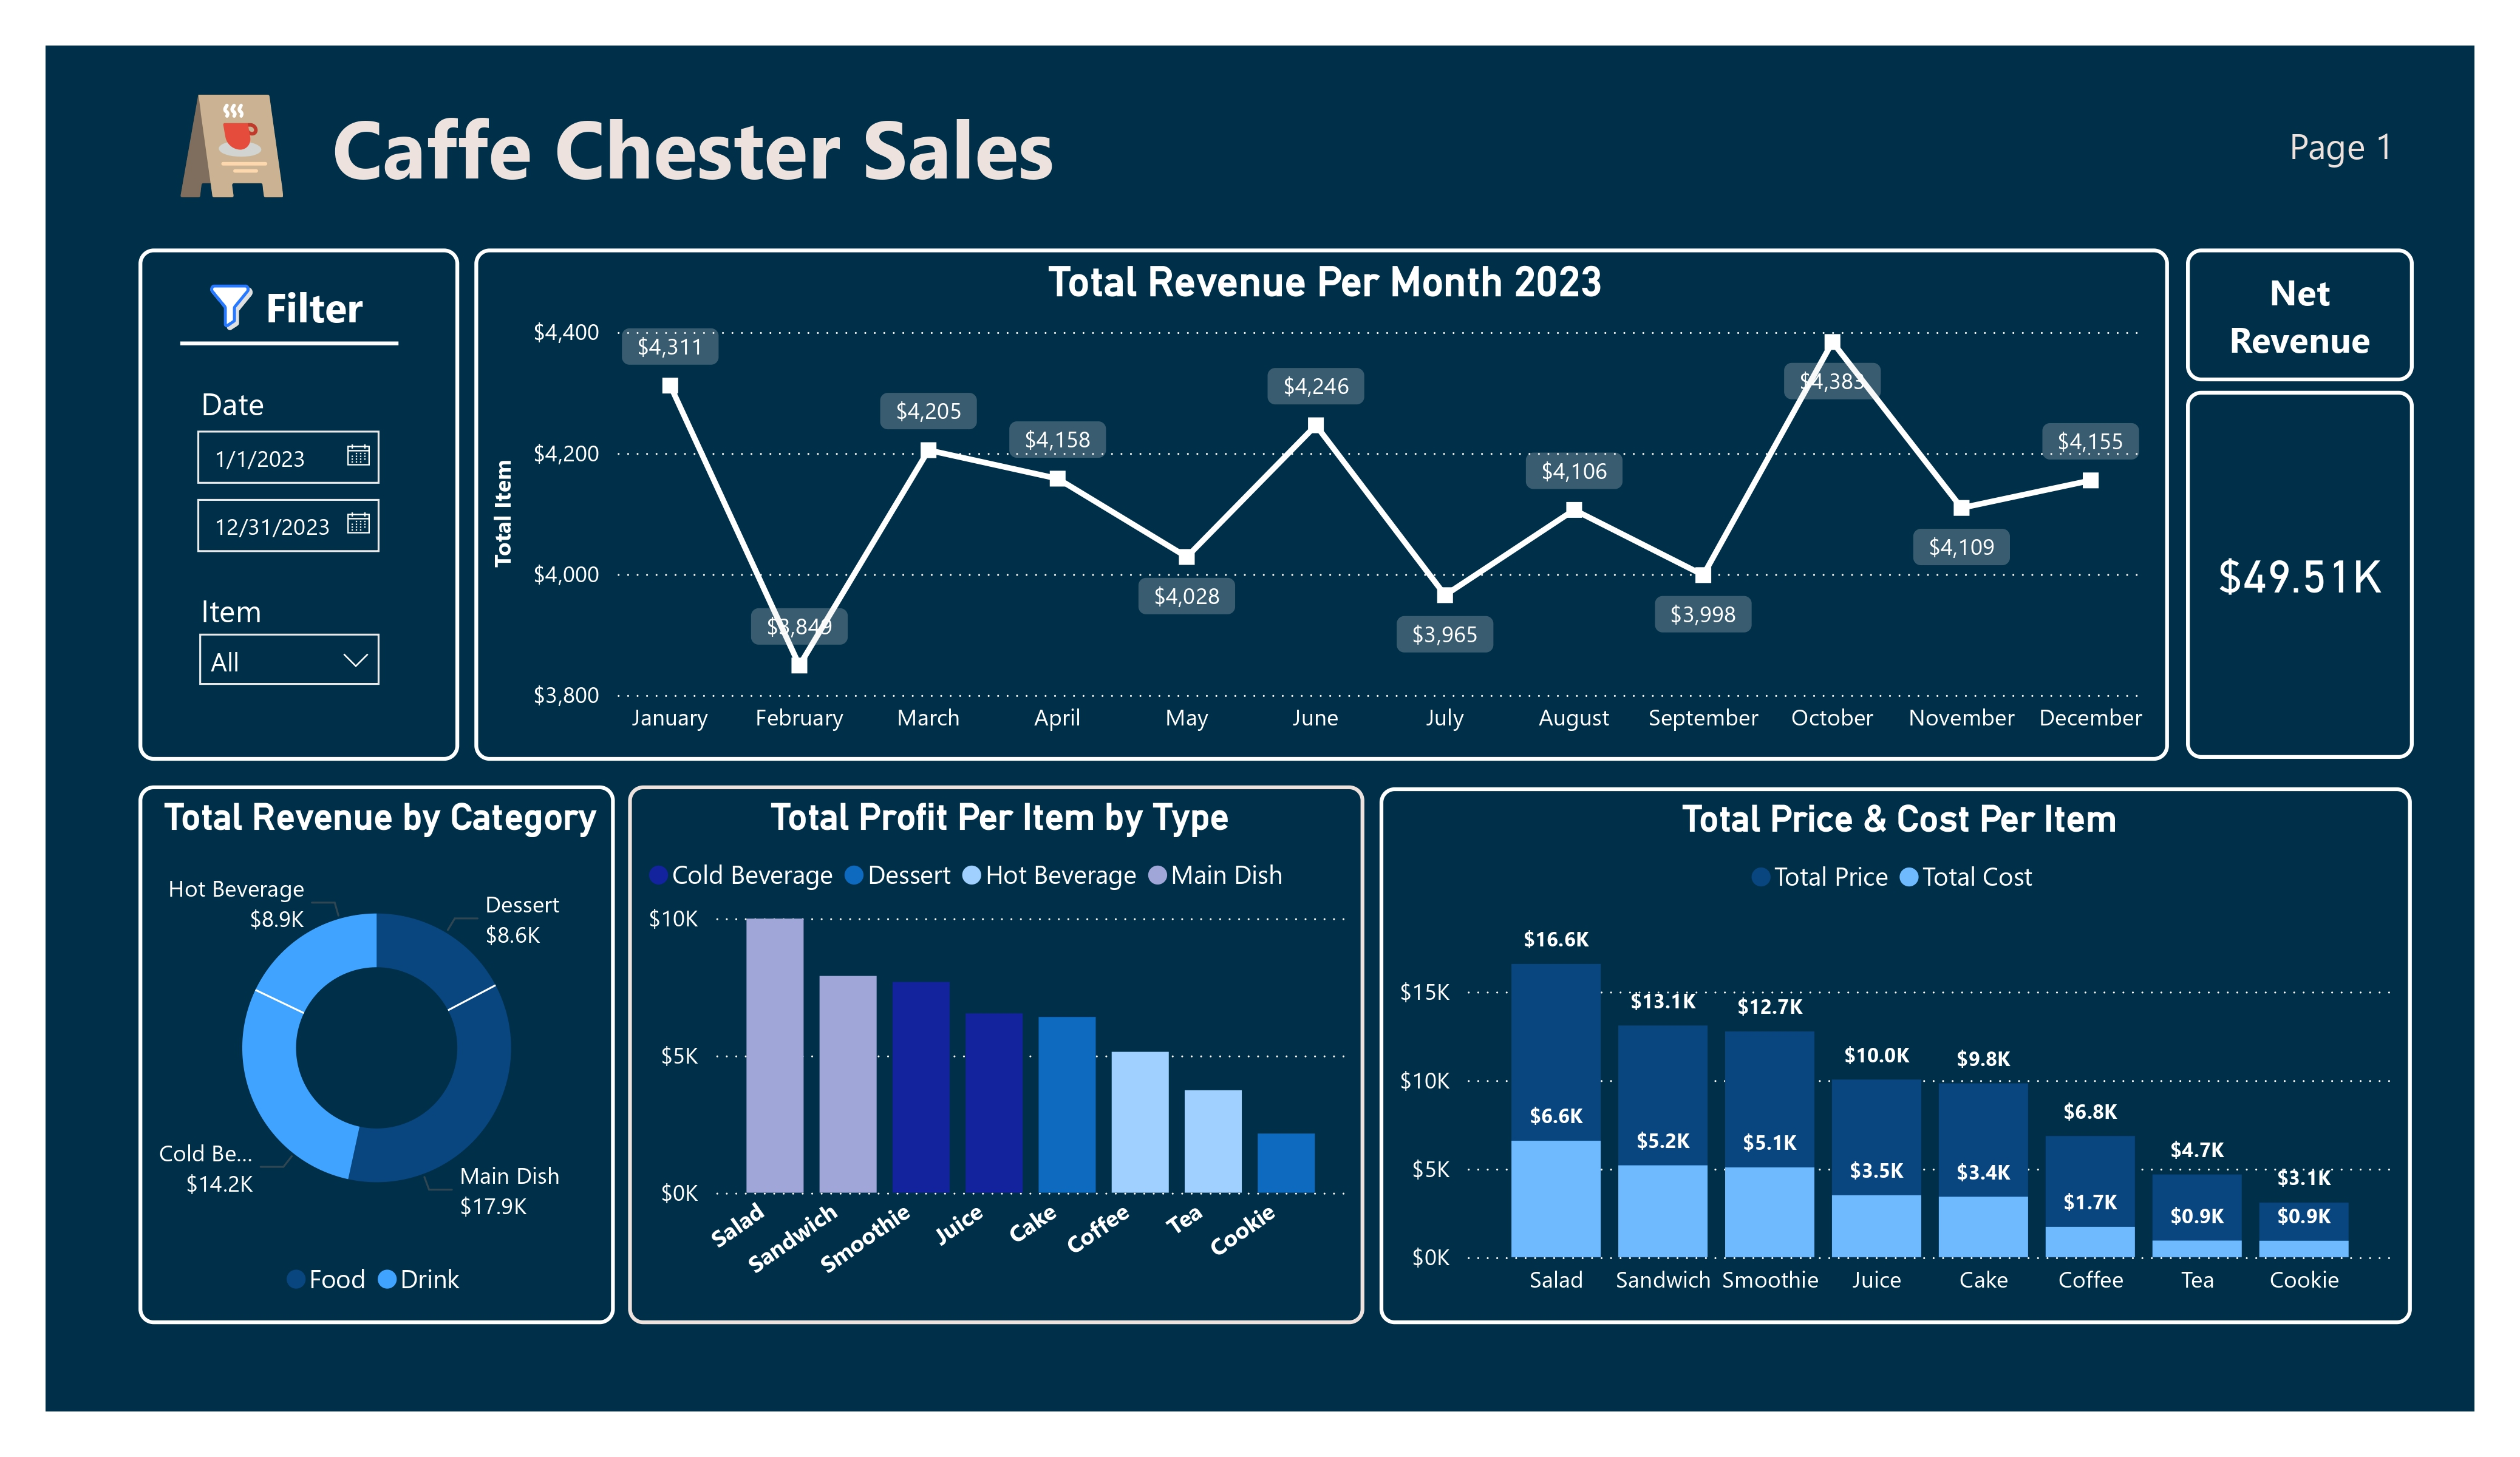

The page's visual inventory and layout, read from the dashboard file:
{"tool":"powerbi","page":{"name":"Page 1","canvas":[1280,720],"ordinal":0},"visuals":[{"type":"clusteredColumnChart","title":"Total Price & Cost Per Item","fields":{"Y":["Sum(Clean_Cafe_Sales.Total Price)","Sum(Clean_Cafe_Sales.Total Cost)"],"Category":["Clean_Cafe_Sales.Item"]},"box":[702.6,390.8,544.5,283.6],"z":0},{"type":"columnChart","title":"Total Profit Per Item by Type","fields":{"Category":["Clean_Cafe_Sales.Item"],"Y":["Sum(Clean_Cafe_Sales.Profit)"],"Series":["Clean_Cafe_Sales.Type"]},"box":[307.3,390,388.2,283.6],"z":1000},{"type":"donutChart","title":"Total Revenue by Category","fields":{"Y":["Sum(Clean_Cafe_Sales.Profit)"],"Category":["Clean_Cafe_Sales.Category"],"Series":["Clean_Cafe_Sales.Type"]},"box":[48.7,390.3,251.7,283.3],"z":2000},{"type":"textbox","box":[145.7,18.6,412.9,70],"z":3000},{"type":"image","box":[58,26,80,54],"z":4000},{"type":"textbox","box":[1173.5,34.5,73.3,37.4],"z":5000},{"type":"lineChart","title":"Total Revenue Per Month 2023","fields":{"Category":["Clean_Cafe_Sales.Transaction Date.Variation.Date Hierarchy.Month"],"Y":["Sum(Clean_Cafe_Sales.Profit)"]},"box":[226,107,893,270],"z":6000},{"type":"shape","box":[48.9,106.8,169.3,270],"z":7000},{"type":"textbox","box":[106.1,118.3,71.3,38.7],"z":8000},{"type":"slicer","fields":{"Values":["Clean_Cafe_Sales.Transaction Date"]},"box":[67.2,192.8,118.9,82.8],"z":9000},{"type":"slicer","fields":{"Values":["Clean_Cafe_Sales.Item"]},"box":[71.2,300.3,115,50],"z":10000},{"type":"textbox","box":[77,173,51.7,34],"z":11000},{"type":"textbox","box":[77,281.7,50.3,32.7],"z":12000},{"type":"card","fields":{"Values":["Sum(Clean_Cafe_Sales.Profit)"]},"box":[1128.5,182.3,120,193.8],"z":13000},{"type":"textbox","box":[1127.7,106.9,120,70],"z":14000},{"type":"shape","box":[71.2,148.8,115,16.2],"z":15000},{"type":"image","box":[80.4,121.7,34.8,32.2],"z":16000}]}

Visuals, with their boxes on the page's 1280x720 design canvas (x1, y1, x2, y2). These are canvas units, not pixel positions in the 2520x1457 screenshot, which may show the page scaled, cropped or inside an application window:
"Total Price & Cost Per Item" clusteredColumnChart: detection(703, 391, 1247, 674)
"Total Profit Per Item by Type" columnChart: detection(307, 390, 696, 674)
"Total Revenue by Category" donutChart: detection(49, 390, 300, 674)
textbox: detection(146, 19, 559, 89)
image: detection(58, 26, 138, 80)
textbox: detection(1174, 34, 1247, 72)
"Total Revenue Per Month 2023" lineChart: detection(226, 107, 1119, 377)
shape: detection(49, 107, 218, 377)
textbox: detection(106, 118, 177, 157)
slicer - Clean_Cafe_Sales.Transaction Date: detection(67, 193, 186, 276)
slicer - Clean_Cafe_Sales.Item: detection(71, 300, 186, 350)
textbox: detection(77, 173, 129, 207)
textbox: detection(77, 282, 127, 314)
card - Sum(Clean_Cafe_Sales.Profit): detection(1128, 182, 1248, 376)
textbox: detection(1128, 107, 1248, 177)
shape: detection(71, 149, 186, 165)
image: detection(80, 122, 115, 154)
